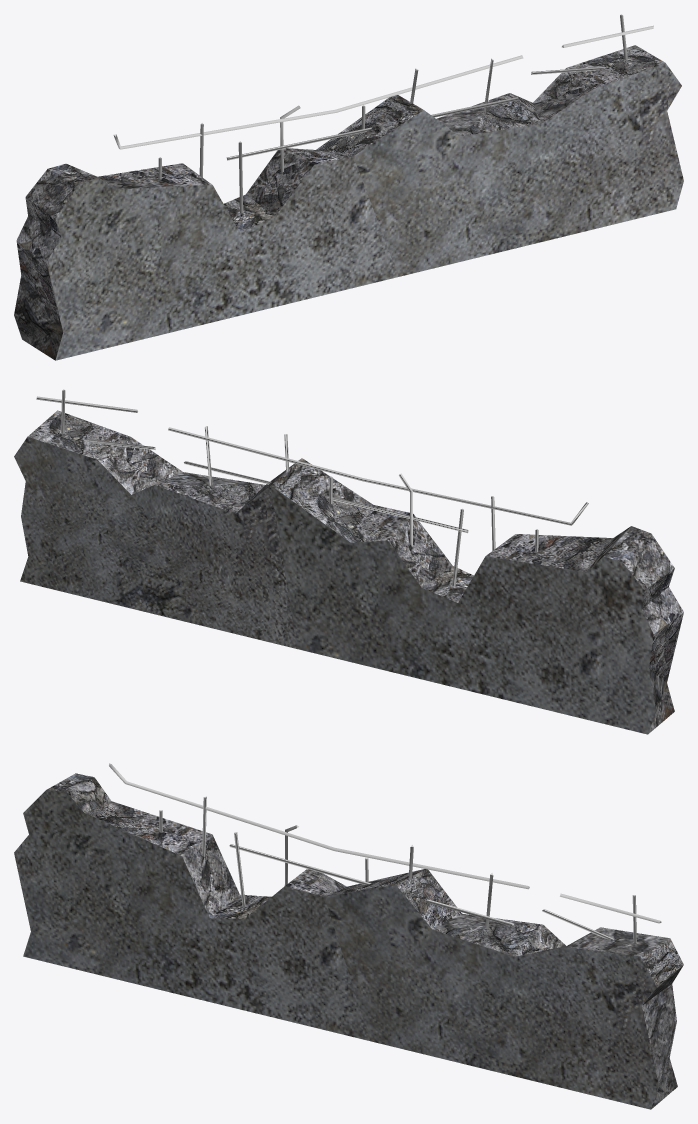
File: suishi.FBX
3 renders of one model, top to bottom at view 1: azimuth 30°, elevation 25°; view 2: azimuth 150°, elevation 25°; view 3: azimuth 330°, elevation 25°, orthographic.
Visible parts, largest first — view 1: qiangti, shitou, polySurface1477; view 2: qiangti, shitou, polySurface1477; view 3: qiangti, shitou, polySurface1477.
Part boxes in pixels (x1,y1,x2,y2): qiangti: [46, 63, 683, 360]; shitou: [14, 45, 665, 360]; polySurface1477: [113, 14, 653, 213]; qiangti: [14, 436, 655, 734]; shitou: [28, 410, 683, 734]; polySurface1477: [36, 389, 588, 586]; qiangti: [14, 790, 658, 1109]; shitou: [46, 773, 683, 1109]; polySurface1477: [109, 763, 661, 942].
Bounding box in the file's own units: 8.12 × 2.41 × 0.6588.
